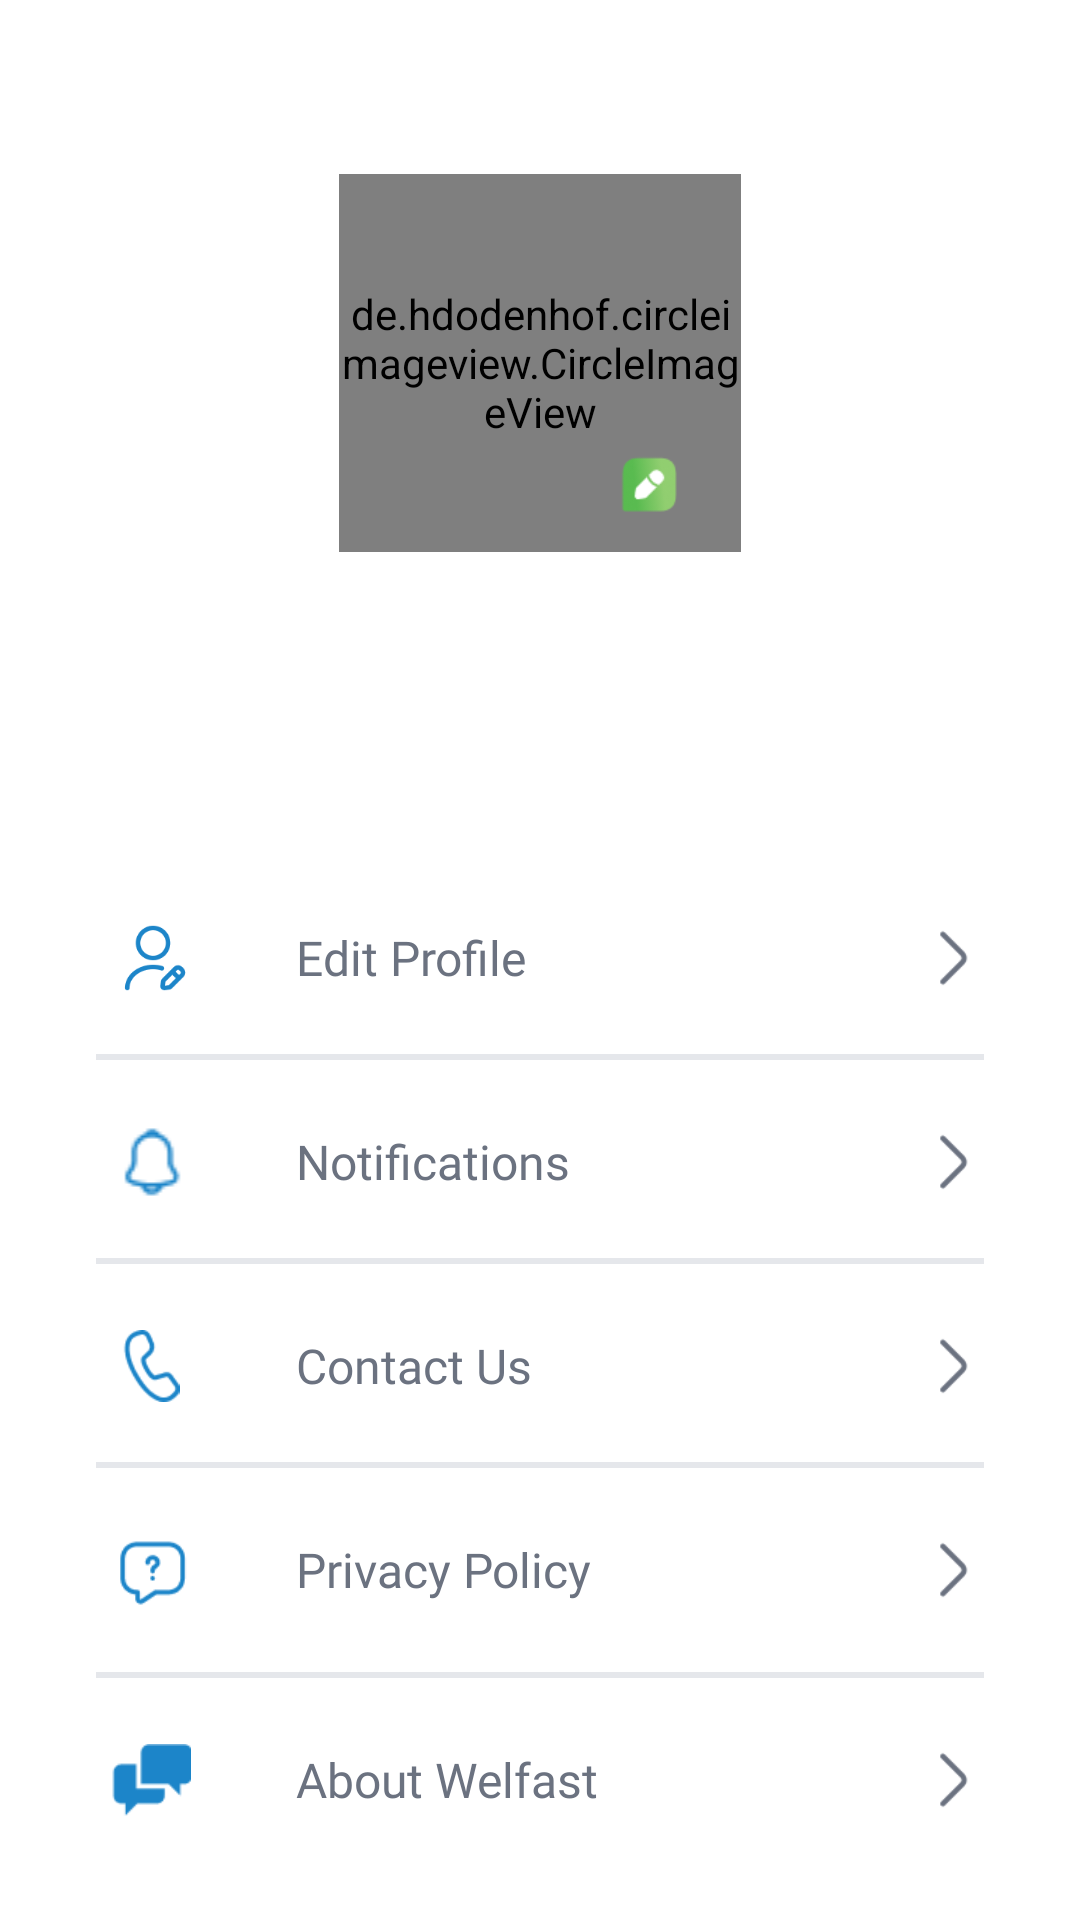

Point at icon controls on the screen. Image size 1080x1920, points as (x,y).
edit: (649,485)
